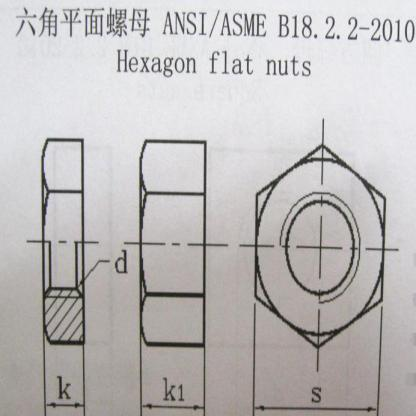FOD: (254, 141, 388, 352), (134, 134, 210, 350), (37, 133, 90, 350)
